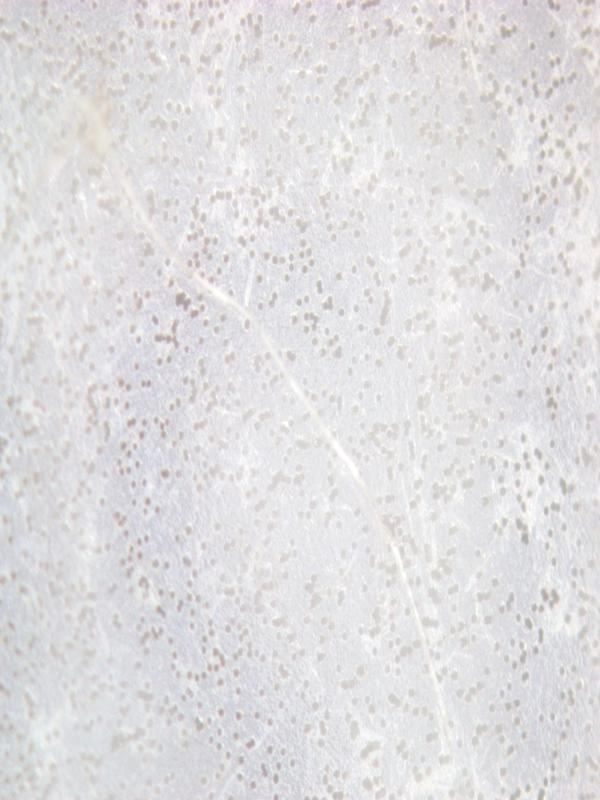microplastic: (2, 0, 599, 798)
